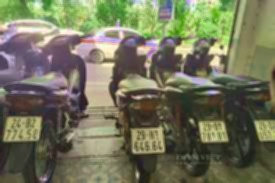Bien-so: (0, 115, 42, 141), (134, 126, 170, 155), (203, 119, 236, 143), (262, 119, 275, 142)
